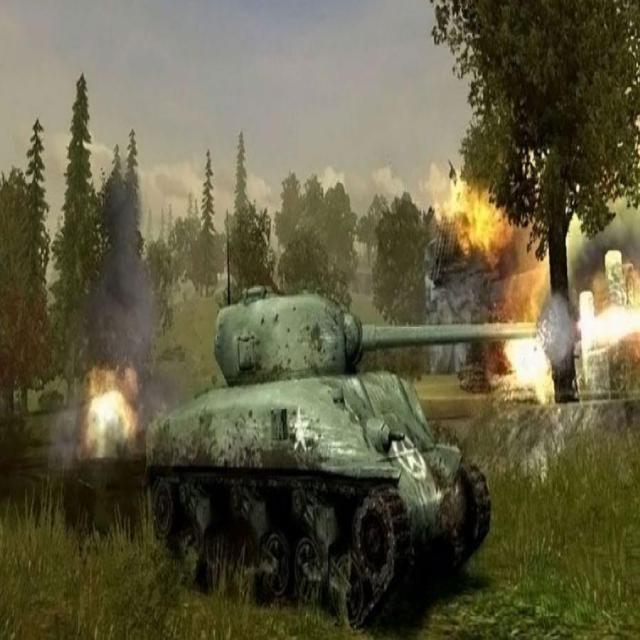Tanks: (144, 281, 492, 614)
